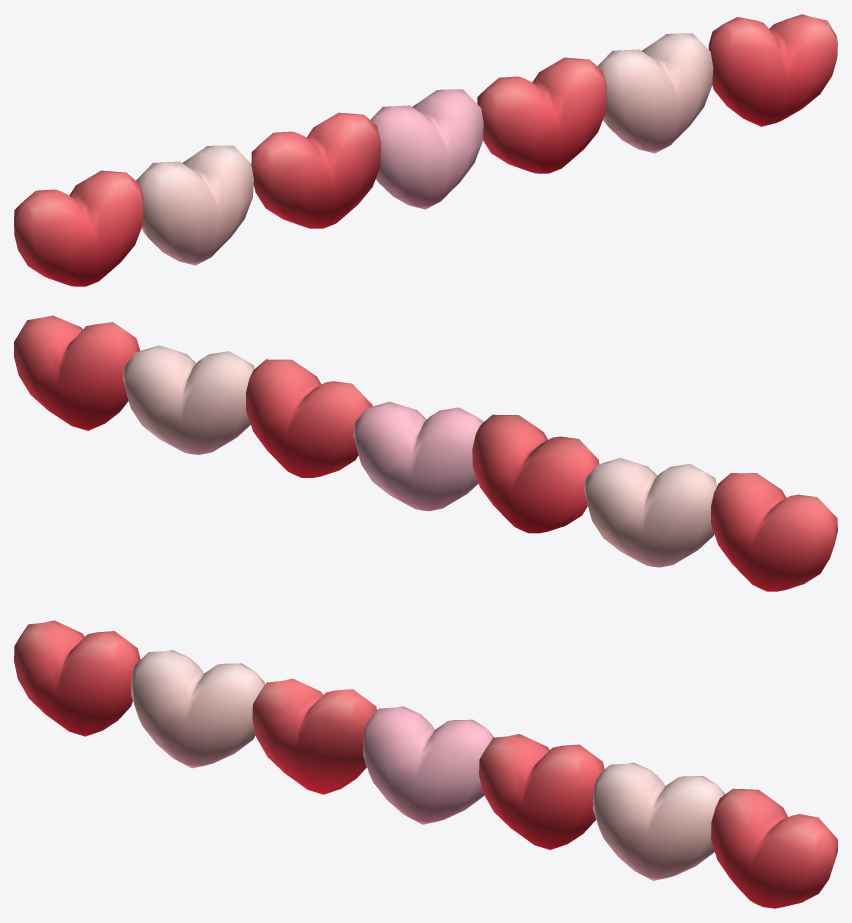
Rendered from CRvalentines_bolloon_002.FBX.
3 renders of one model, top to bottom at view 1: azimuth 30°, elevation 25°; view 2: azimuth 150°, elevation 25°; view 3: azimuth 330°, elevation 25°, orthographic.
Visible parts, largest first — view 1: CRvalentines_bolloon_002; view 2: CRvalentines_bolloon_002; view 3: CRvalentines_bolloon_002.
Boxes of the visible parts, left/top/right/bottom form: CRvalentines_bolloon_002: left=14, top=14, right=837, bottom=286; CRvalentines_bolloon_002: left=14, top=315, right=837, bottom=591; CRvalentines_bolloon_002: left=14, top=620, right=837, bottom=908.
Size of the model in its own units: 223 by 29.83 by 20.68.
